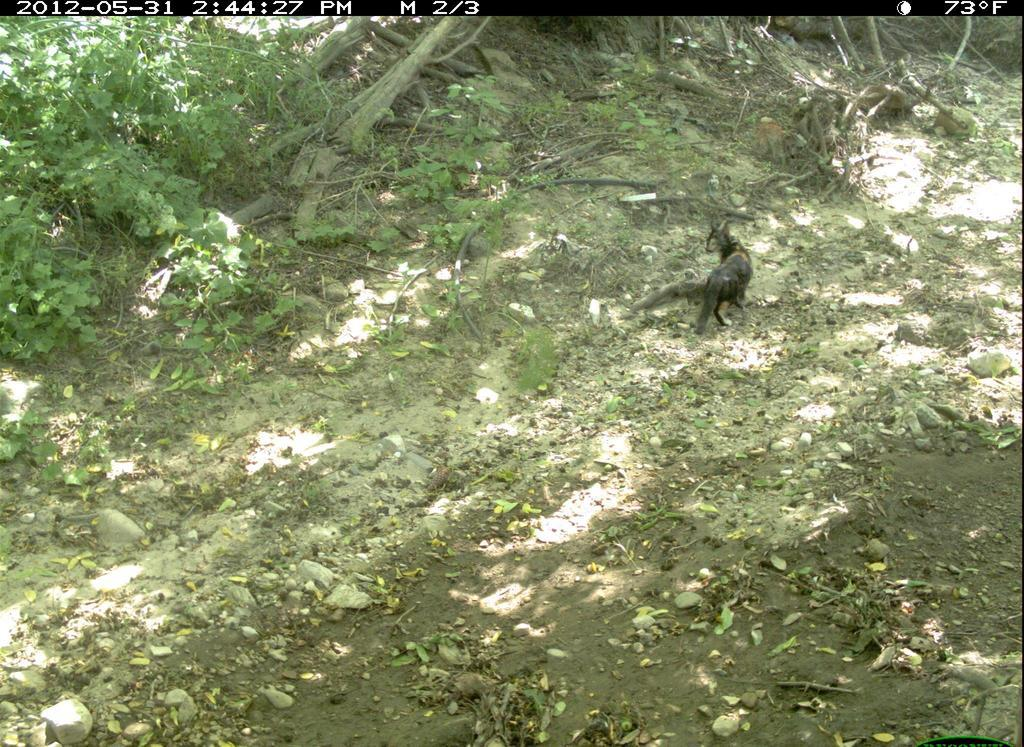cat: (685, 214, 771, 346)
